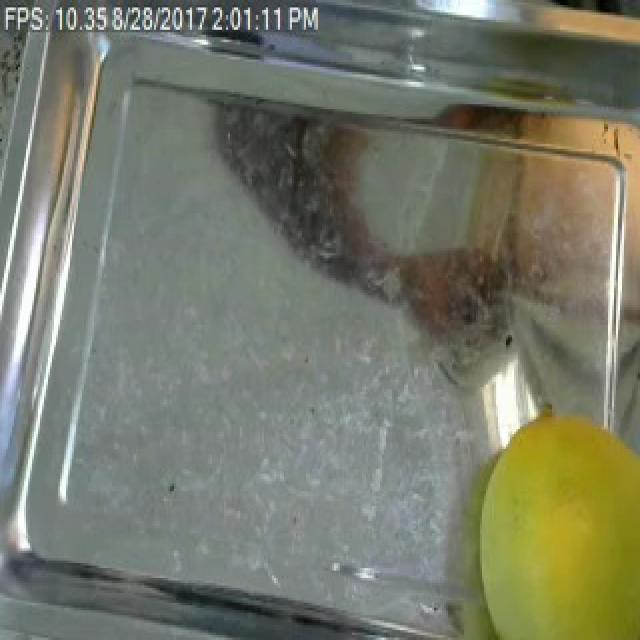fruit: (442, 394, 640, 640)
